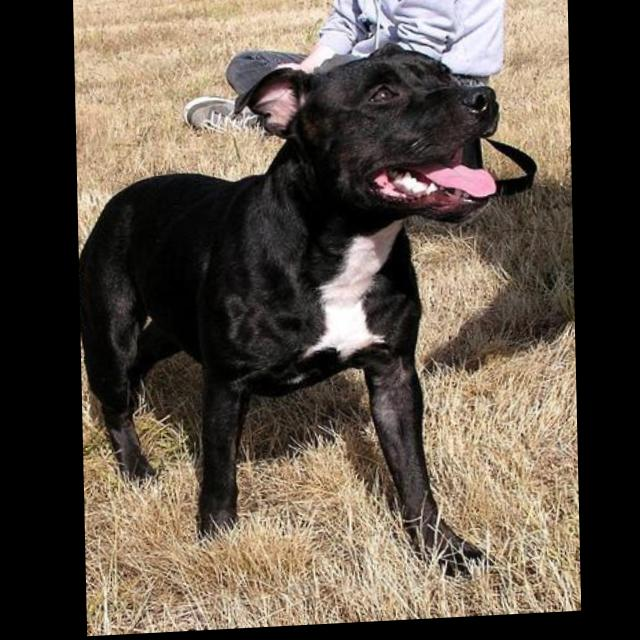staffford: (75, 43, 511, 600)
